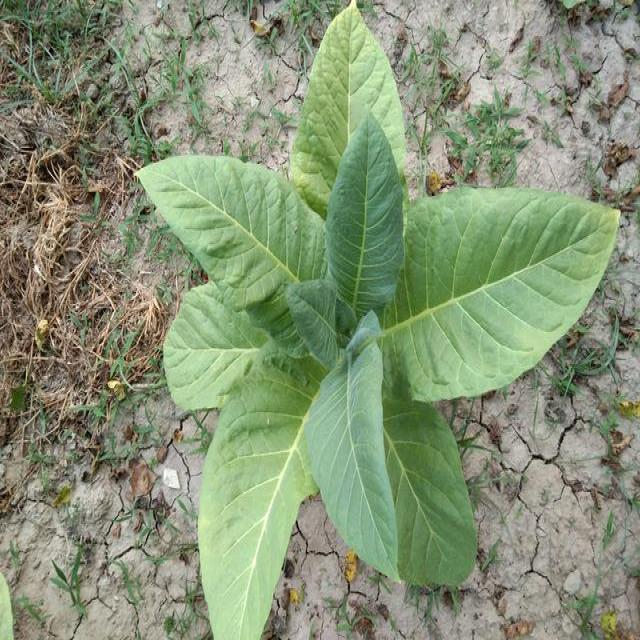crop: (142, 15, 598, 640)
